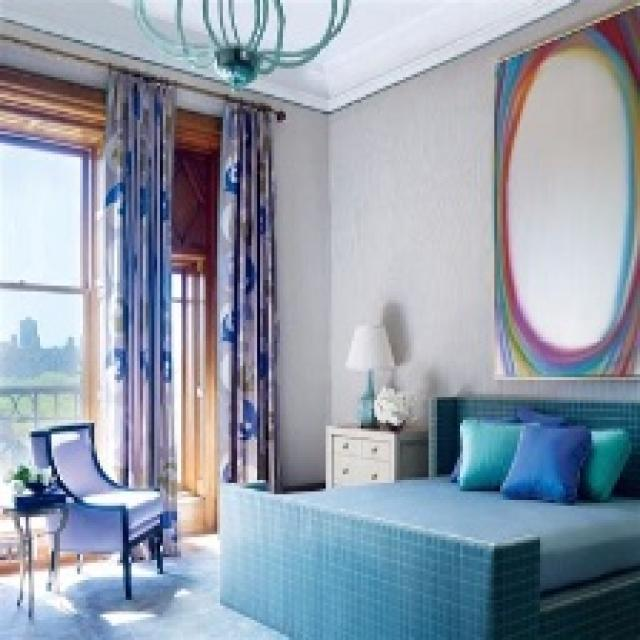Bed: (217, 394, 637, 637)
